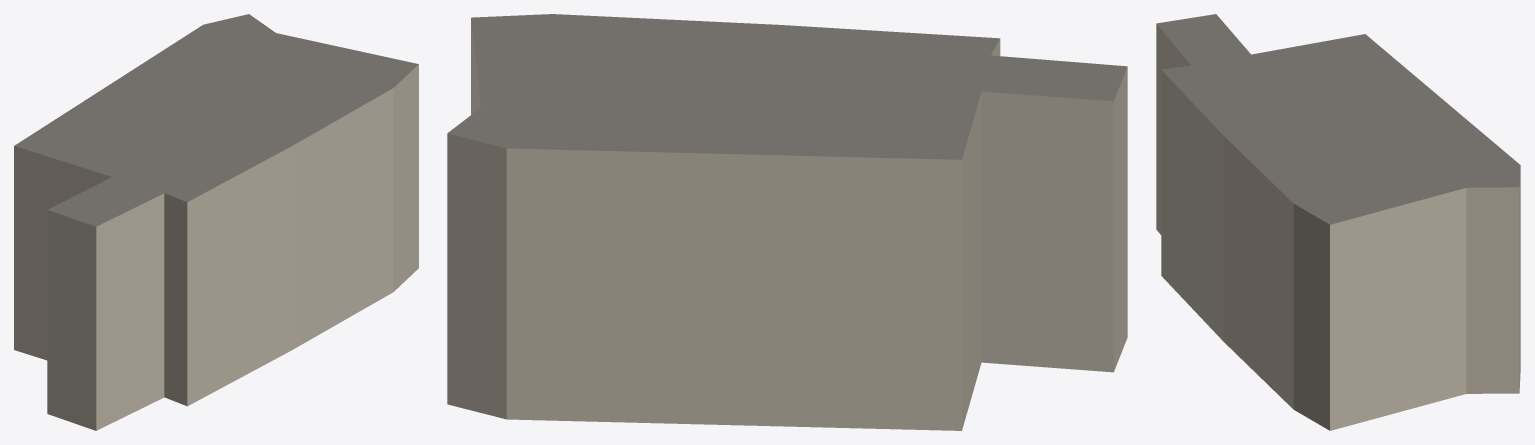
The picture shows the model from 3 angles, left to right: view 1: azimuth 30°, elevation 25°; view 2: azimuth 150°, elevation 25°; view 3: azimuth 270°, elevation 25°; orthographic projection. The views are drawn at different scales.
Parts seen in each view (by area): view 1: HP-w380340029; view 2: HP-w380340029; view 3: HP-w380340029.
Boxes of the visible parts, left/top/right/bottom form: HP-w380340029: left=14, top=14, right=418, bottom=430; HP-w380340029: left=447, top=14, right=1127, bottom=430; HP-w380340029: left=1156, top=14, right=1520, bottom=430.
Size of the model in its own units: 39.48 by 18 by 28.82.
